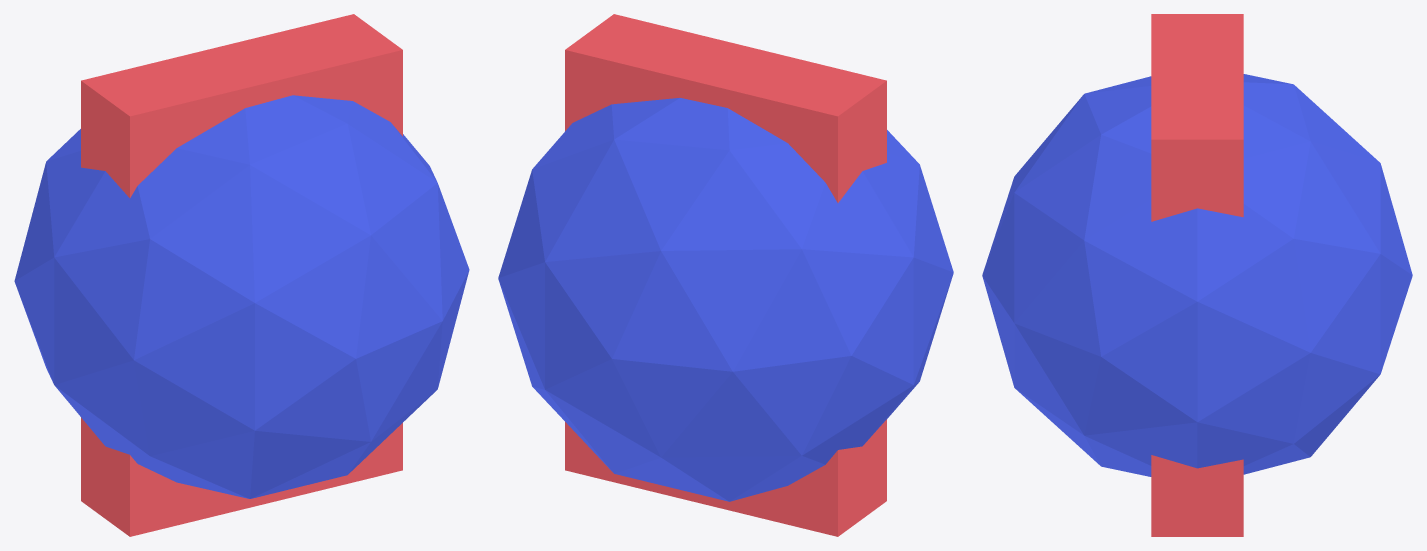
Rendered from electron.gltf.
3 renders of one model, left to right at view 1: azimuth 30°, elevation 25°; view 2: azimuth 150°, elevation 25°; view 3: azimuth 270°, elevation 25°, orthographic. The views are drawn at different scales.
Parts seen in each view (by area): view 1: Icosphere, Cube; view 2: Icosphere, Cube; view 3: Icosphere, Cube.
Part boxes in pixels (x1=…): Icosphere: x1=14, y1=95, x2=469, y2=498; Cube: x1=81, y1=14, x2=402, y2=536; Icosphere: x1=498, y1=98, x2=953, y2=501; Cube: x1=565, y1=14, x2=886, y2=536; Icosphere: x1=982, y1=74, x2=1412, y2=476; Cube: x1=1151, y1=14, x2=1243, y2=536.
Size of the model in its own units: 0.201 by 0.2151 by 0.2114.
